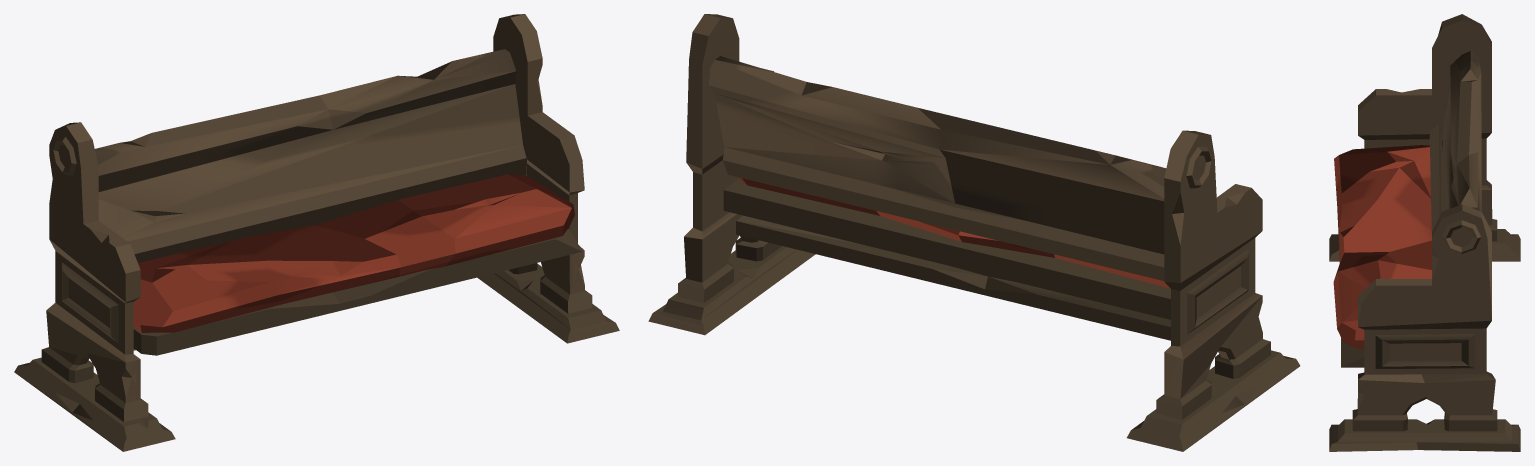
Rendered from crypt_pew.gltf.
3 renders of one model, left to right at view 1: azimuth 30°, elevation 25°; view 2: azimuth 150°, elevation 25°; view 3: azimuth 270°, elevation 25°, orthographic. The views are drawn at different scales.
Parts seen in each view (by area): view 1: crypt_pew; view 2: crypt_pew; view 3: crypt_pew.
Part boxes in pixels (<box>): crypt_pew: <box>14,14,619,451</box>; crypt_pew: <box>648,14,1300,451</box>; crypt_pew: <box>1329,14,1520,451</box>.
Size of the model in its own units: 2.01 by 1.03 by 0.7643.
1 material, 1 textured.
